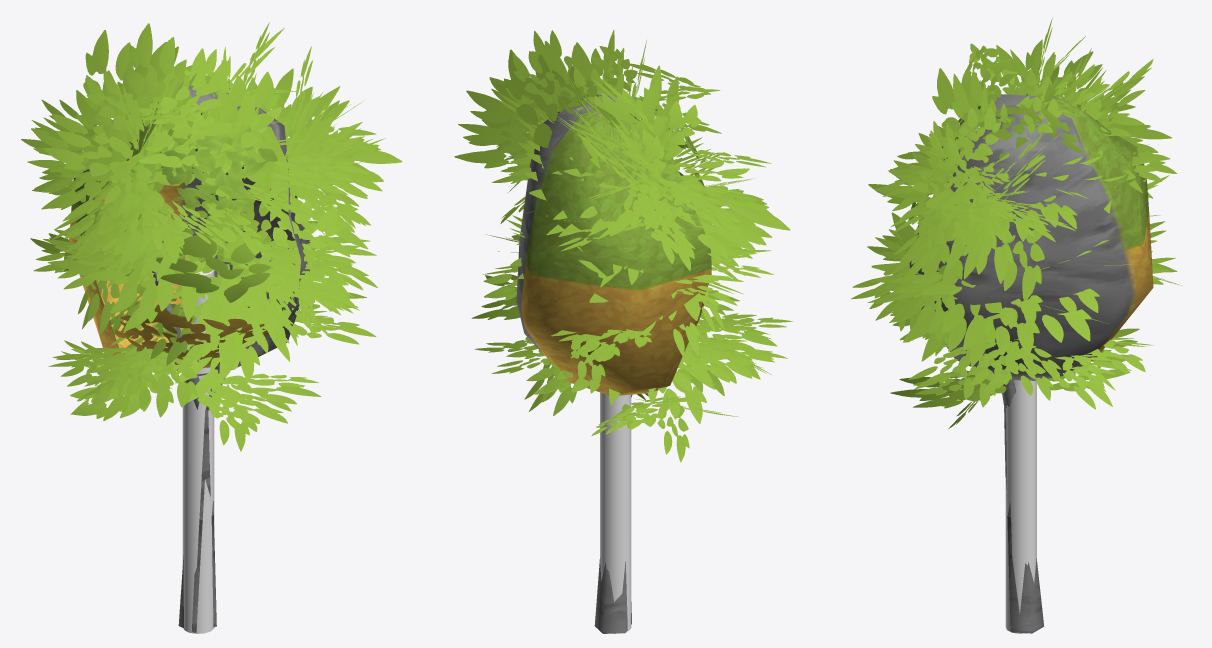
The model's file is Tree green.fbx.
3 views of the same model, side by side, from view 1: azimuth 30°, elevation 25°; view 2: azimuth 150°, elevation 25°; view 3: azimuth 270°, elevation 25° (orthographic).
Visible parts, largest first — view 1: leaves, Sphere, Capsule, tree_3__3_; view 2: leaves, Sphere, Capsule, tree_3__3_; view 3: leaves, Sphere, Capsule, tree_3__3_.
Part boxes in pixels (left/top/right/bottom): leaves: left=21, top=22, right=402, bottom=451; Sphere: left=69, top=85, right=310, bottom=376; Capsule: left=182, top=265, right=214, bottom=633; tree_3__3_: left=152, top=271, right=249, bottom=632; leaves: left=454, top=30, right=792, bottom=462; Sphere: left=516, top=94, right=711, bottom=395; Capsule: left=600, top=392, right=631, bottom=633; tree_3__3_: left=594, top=394, right=632, bottom=633; leaves: left=851, top=17, right=1181, bottom=428; Sphere: left=908, top=93, right=1153, bottom=380; Capsule: left=1005, top=380, right=1036, bottom=633; tree_3__3_: left=1002, top=380, right=1044, bottom=633.
Bounding box in the file's own units: 207 × 355 × 199.
